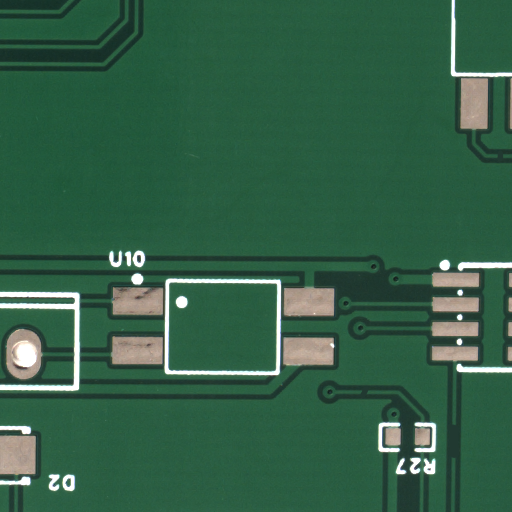Open_circuit: (452, 441, 459, 474), (500, 153, 508, 162), (365, 389, 372, 398)
